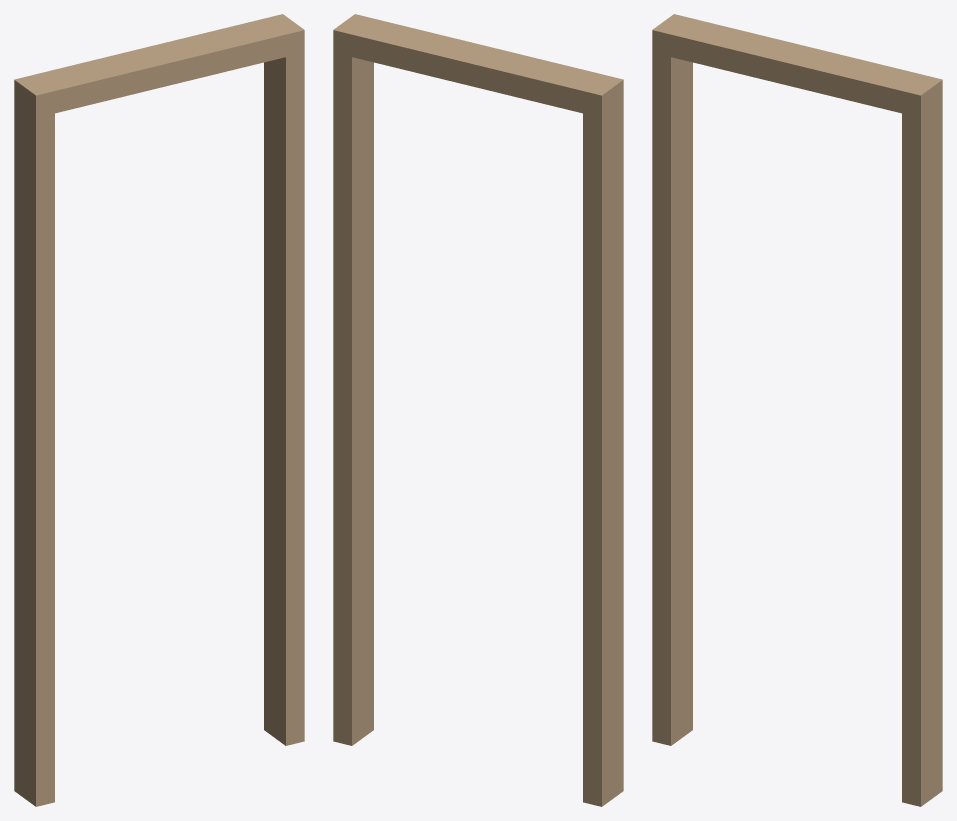
File: door_frame.glb
3 renders of one model, left to right at view 1: azimuth 30°, elevation 25°; view 2: azimuth 150°, elevation 25°; view 3: azimuth 330°, elevation 25°, orthographic.
Visible parts, largest first — view 1: DoorFrame_Frame, DoorFrame_ChamferRight, DoorFrame_ChamferTop; view 2: DoorFrame_Frame, DoorFrame_ChamferRight, DoorFrame_ChamferTop; view 3: DoorFrame_Frame, DoorFrame_ChamferLeft, DoorFrame_ChamferTop.
Boxes of the visible parts, box(x1,y1,x2,y2) form: DoorFrame_Frame: box(14, 14, 304, 806); DoorFrame_ChamferRight: box(264, 54, 288, 745); DoorFrame_ChamferTop: box(55, 54, 285, 113); DoorFrame_Frame: box(333, 14, 623, 806); DoorFrame_ChamferRight: box(349, 54, 373, 745); DoorFrame_ChamferTop: box(352, 54, 582, 113); DoorFrame_Frame: box(652, 14, 942, 806); DoorFrame_ChamferLeft: box(668, 54, 692, 745); DoorFrame_ChamferTop: box(671, 54, 901, 113).
Bounding box in the file's own units: 0.85 × 2.15 × 0.12.
